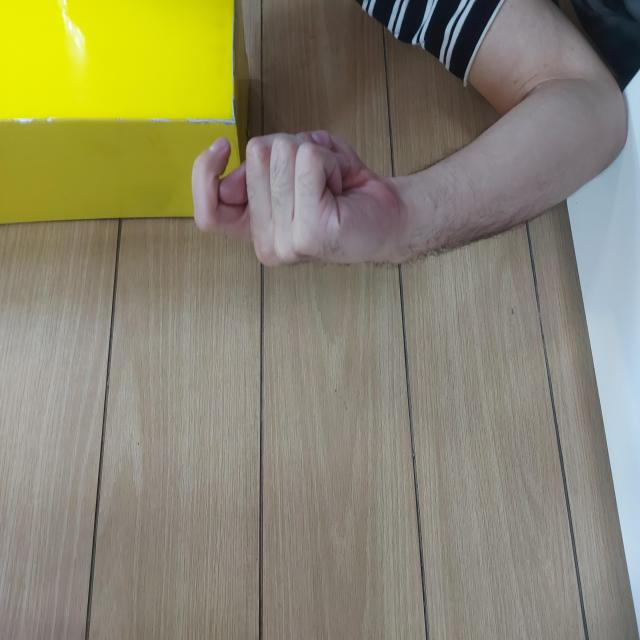T: (371, 188, 513, 402)
